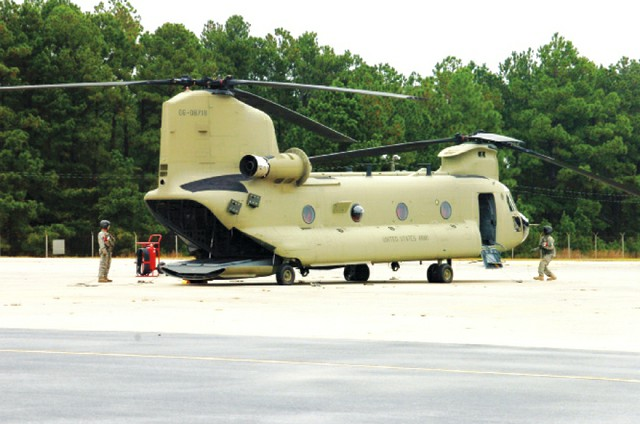chinook: (81, 73, 554, 286)
